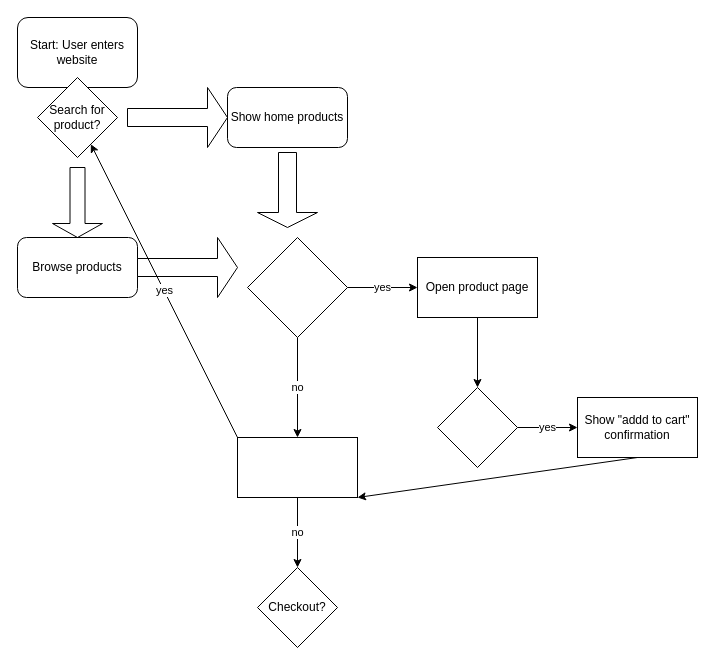
Some shapes in this 715 by 665 pixel diagram are drawn without their labels. The shapes that lost their labels are listed below. From the top down, each one's centre as x and y in pixels, then its label:
point 297,287: View specific product?
point 477,427: Add to cart?
point 297,467: Continue shopping?
